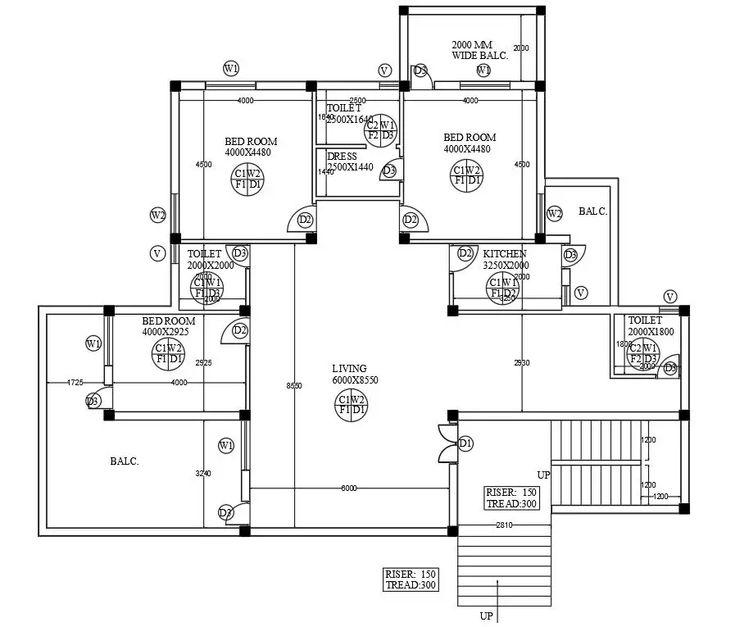Blueprint: (26, 0, 697, 547)
wall: (36, 302, 50, 539), (455, 409, 682, 423), (35, 525, 242, 539), (247, 525, 451, 538), (457, 304, 662, 316), (110, 408, 241, 424), (548, 502, 680, 517), (407, 4, 539, 18), (113, 303, 242, 317), (608, 174, 620, 309), (168, 89, 181, 197), (534, 89, 547, 197), (678, 314, 692, 413), (677, 417, 691, 506), (535, 175, 621, 189), (407, 237, 537, 246), (310, 88, 319, 206), (36, 302, 106, 317), (178, 237, 309, 245), (534, 11, 548, 84), (397, 13, 411, 83), (314, 78, 383, 92), (447, 459, 460, 529), (253, 78, 309, 92), (310, 194, 406, 202), (168, 261, 181, 317), (607, 310, 617, 381), (243, 343, 252, 414), (397, 90, 406, 159), (310, 141, 369, 151), (239, 466, 253, 505), (607, 372, 658, 381), (432, 78, 462, 93), (242, 266, 252, 308), (544, 232, 573, 246), (507, 78, 538, 91), (179, 78, 207, 92), (447, 270, 456, 309), (102, 364, 115, 389), (559, 266, 573, 288), (398, 180, 405, 206)
